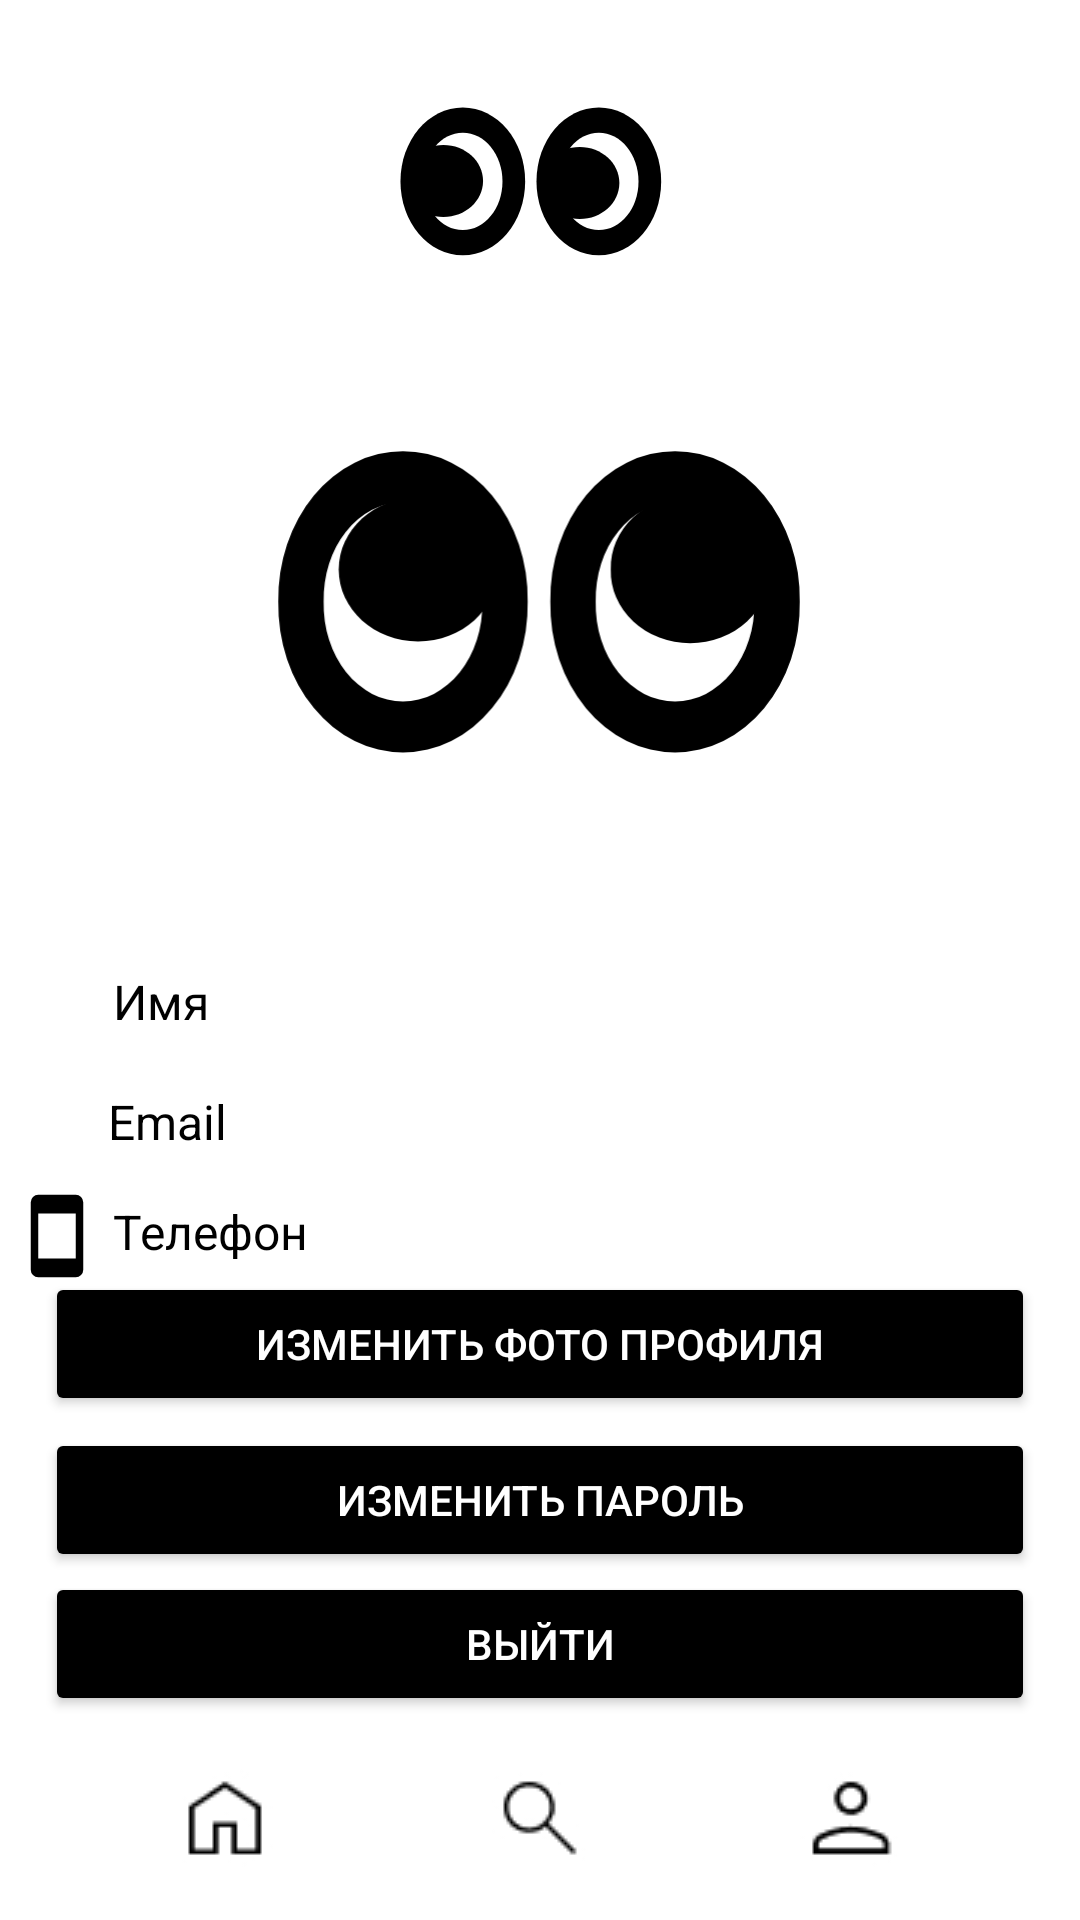

Named icons in this screenshot (1080px×1920px) and their bounding boxes, (x1, y1, x2, y2):
ppiconphone: (30, 1194, 84, 1278)
profile: (812, 1781, 892, 1855)
search: (503, 1781, 577, 1855)
